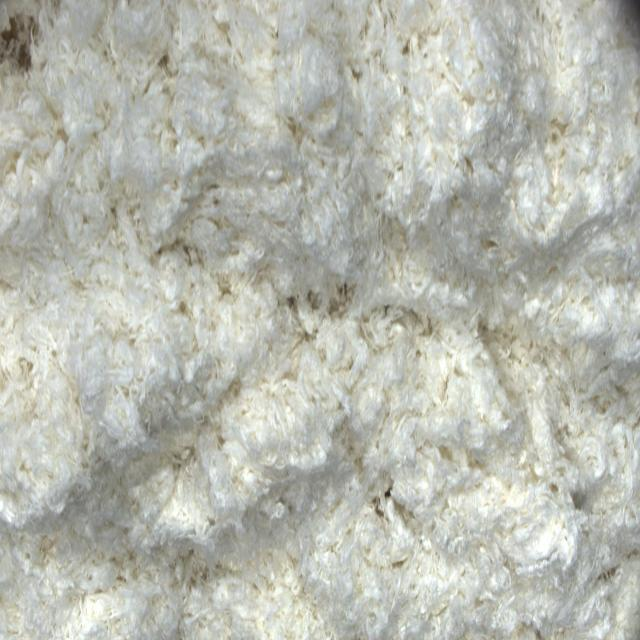dust: (8, 24, 35, 77)
